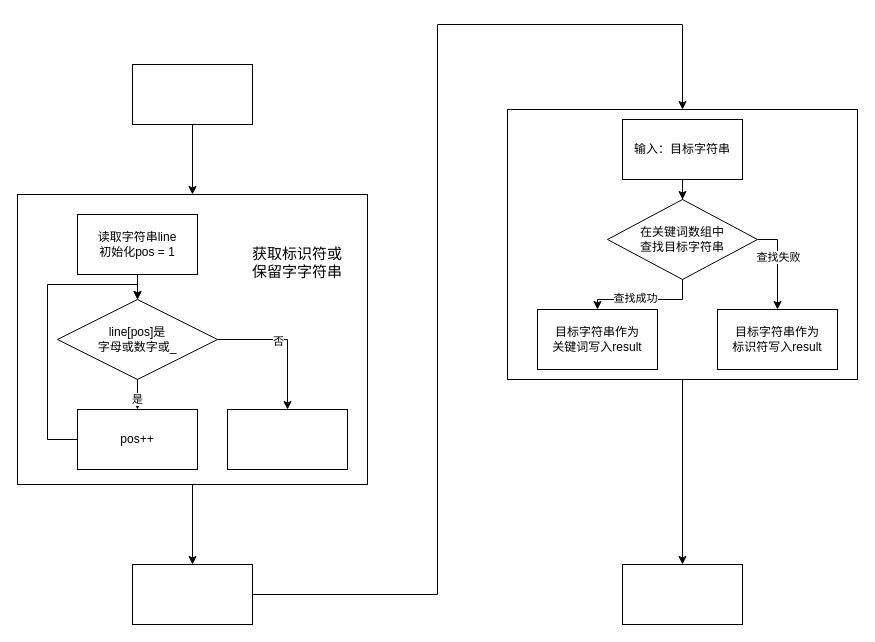
This 875x642 diagram has some shape labels left out. The shapes that lost their labels are listed below. From the top down, each one's box as (x1, y1, x2, y2) in pixels, then its label:
(132, 64, 252, 124): 条件满足进入
(226, 408, 348, 470): 返回(pos, line[0:pos])
(132, 564, 252, 624): pos+返回的长度
(622, 564, 742, 624): 重新进入循环
